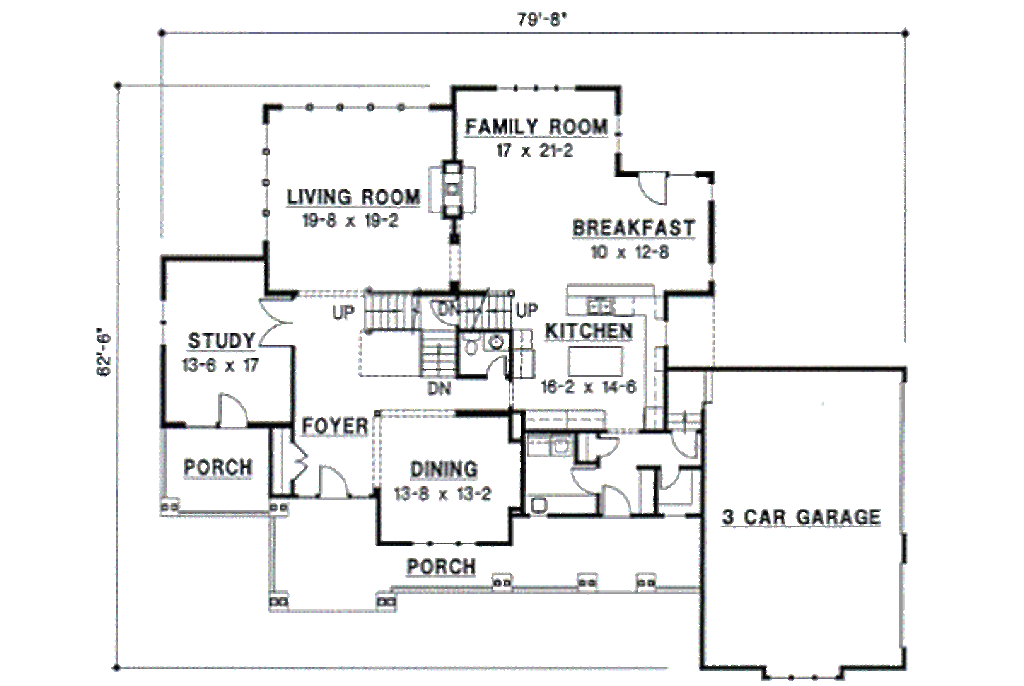door: (256, 291, 294, 349), (634, 165, 678, 214), (217, 385, 258, 434), (313, 463, 357, 499), (667, 423, 706, 459), (598, 485, 635, 516), (571, 463, 600, 495), (658, 465, 687, 496), (597, 429, 624, 462), (288, 439, 309, 481), (484, 350, 507, 378)
large_sink: (460, 333, 481, 362)
small_sink: (485, 333, 508, 350)
stairs: (359, 289, 429, 332), (454, 292, 528, 328), (423, 324, 457, 382)
twin_sink: (588, 293, 612, 316)
window: (159, 300, 169, 346), (414, 541, 477, 546), (706, 182, 715, 203)
